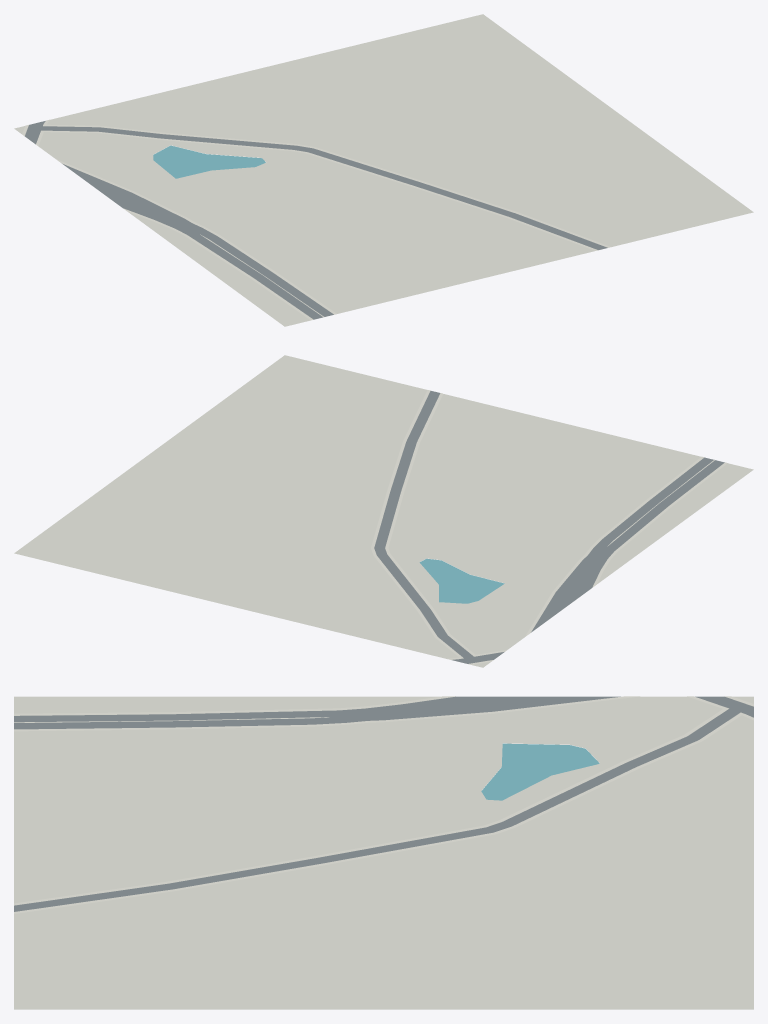
3 views of the same model, one above another, from view 1: azimuth 30°, elevation 25°; view 2: azimuth 150°, elevation 25°; view 3: azimuth 270°, elevation 25° (orthographic). The views are drawn at different scales.
Parts seen in each view (by area): view 1: city; view 2: city; view 3: city.
Boxes of the visible parts, <box> form: city: <box>14,14,753,326</box>; city: <box>14,355,753,667</box>; city: <box>14,696,753,1009</box>.
Size of the model in its own units: 500 by 0.4 by 500.
